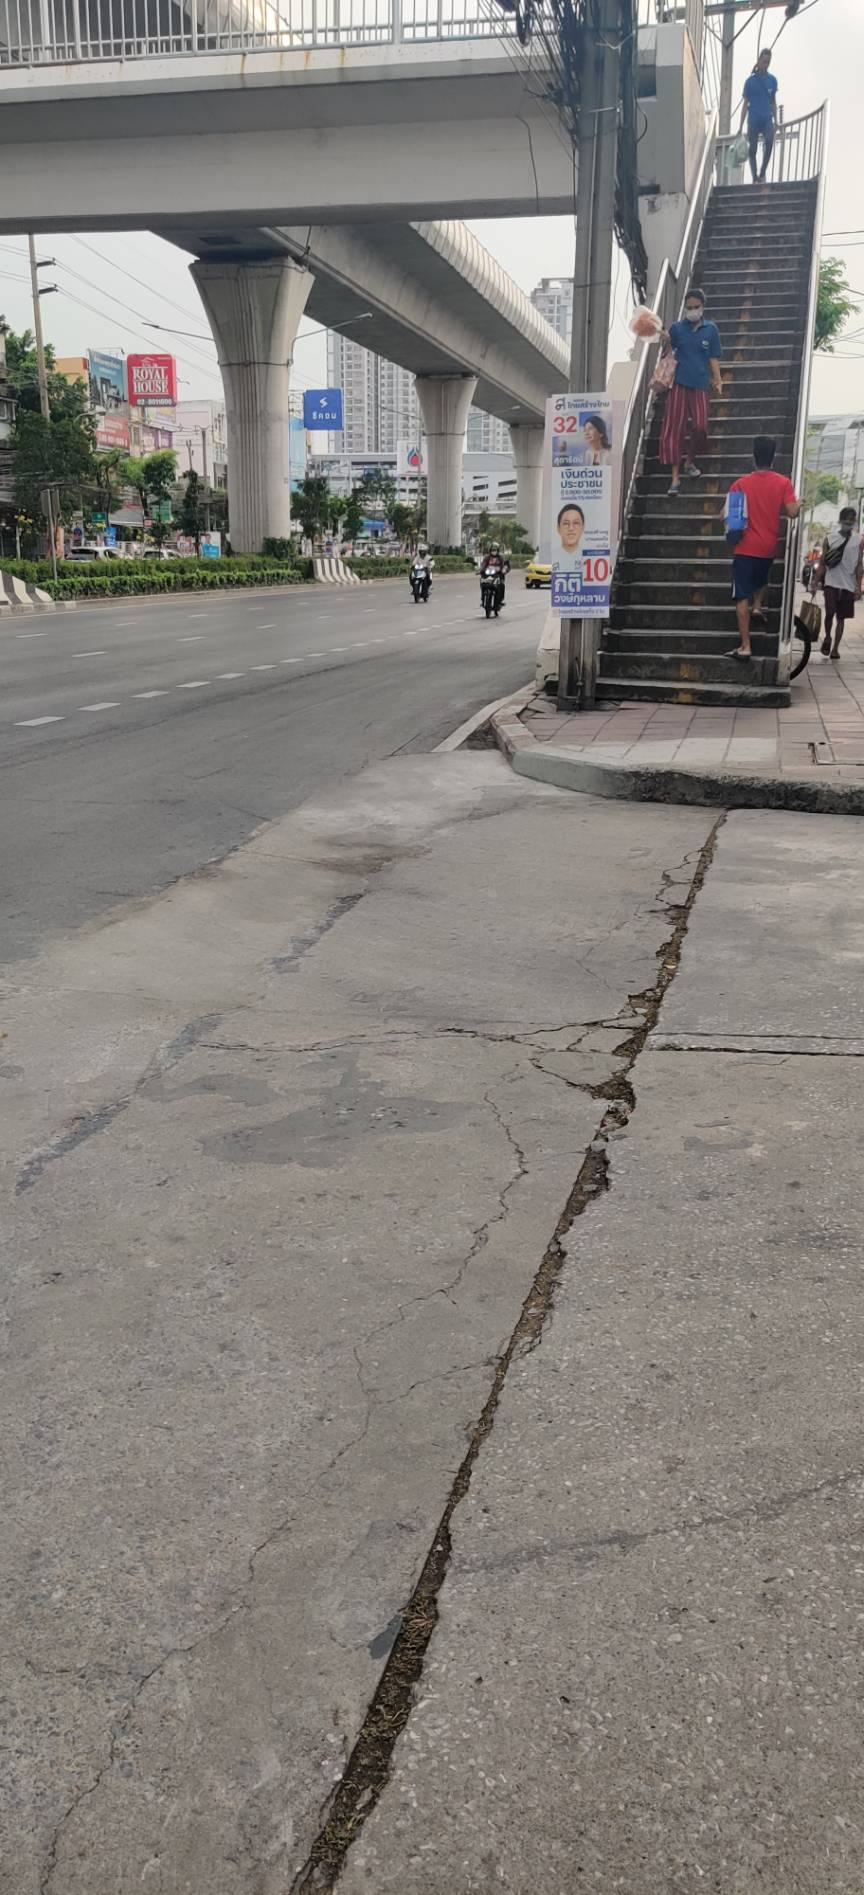Banner: (537, 387, 628, 634)
